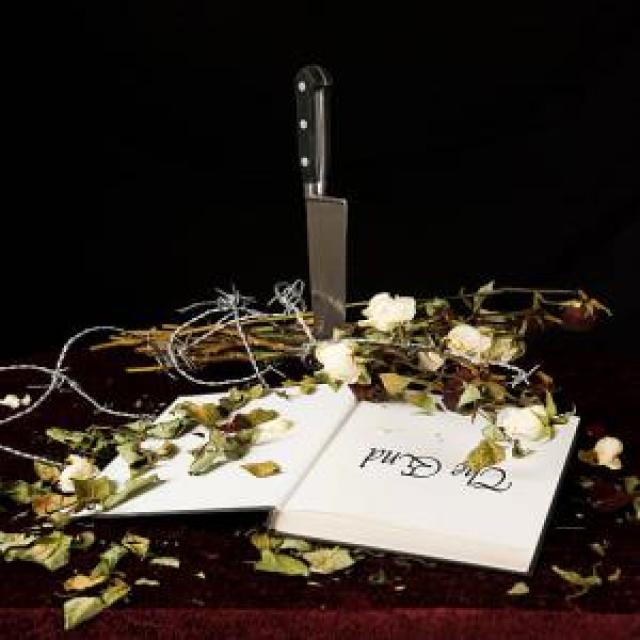knife: (292, 60, 355, 375)
